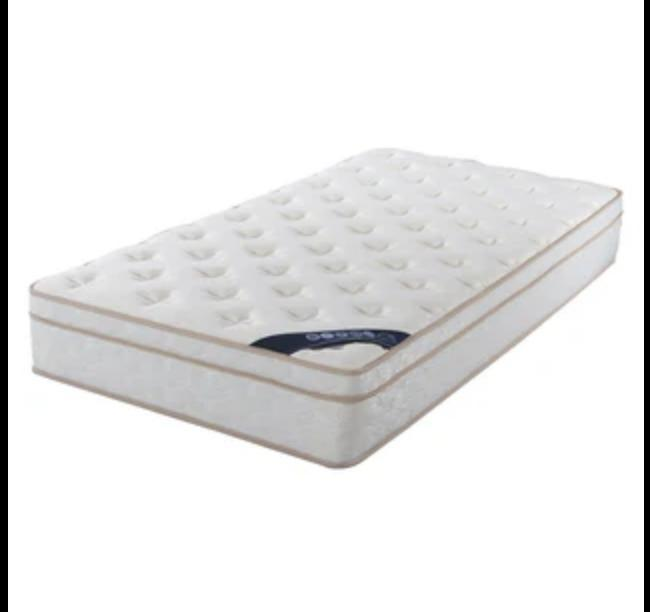Bed-Mattress: (23, 136, 631, 478)
